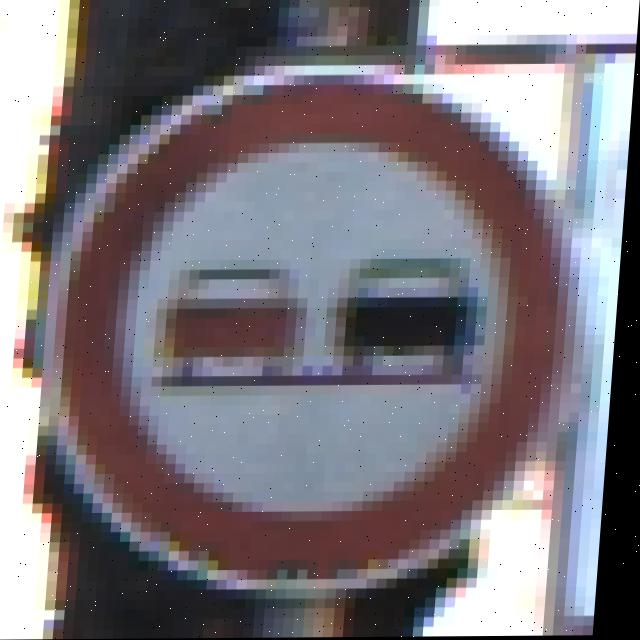no_overtaking: (39, 116, 577, 597)
